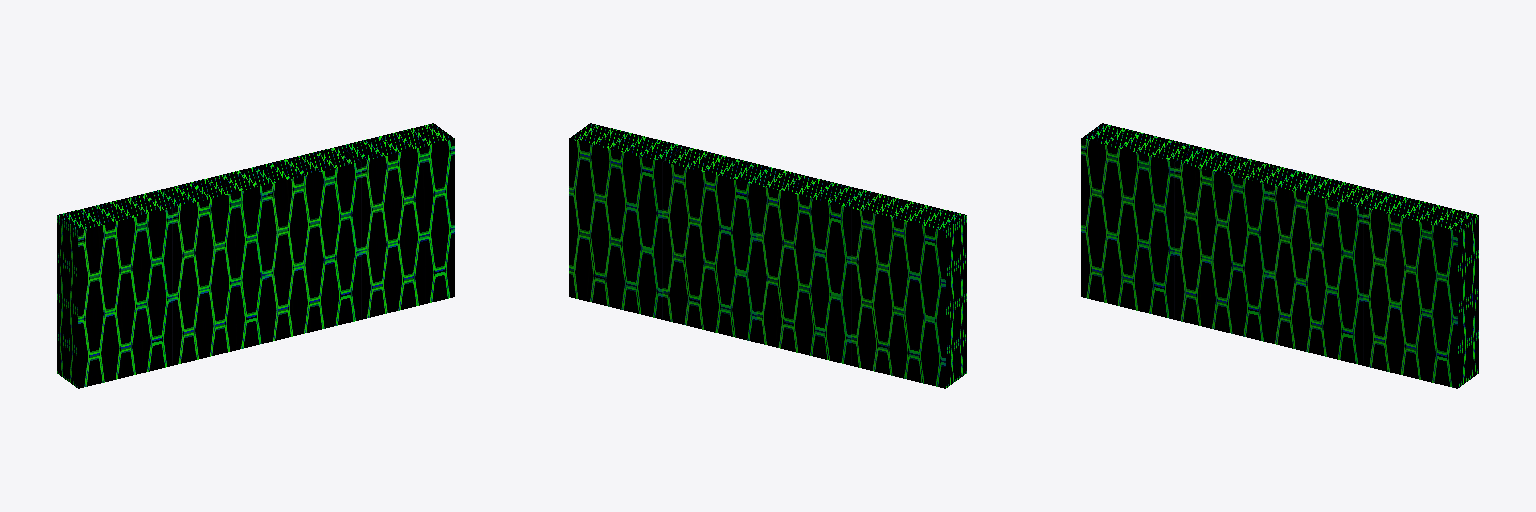
3 renders of one model, left to right at view 1: azimuth 30°, elevation 25°; view 2: azimuth 150°, elevation 25°; view 3: azimuth 330°, elevation 25°, orthographic.
Visible parts, largest first — view 1: 立方体_立方体.005; view 2: 立方体_立方体.005; view 3: 立方体_立方体.005.
Boxes of the visible parts, x1,y1,x2,y2 form: 立方体_立方体.005: [57, 123, 454, 388]; 立方体_立方体.005: [569, 123, 966, 388]; 立方体_立方体.005: [1081, 123, 1478, 388].
Size of the model in its own units: 20 by 8 by 2.
Materials: 1 (1 with a texture image).